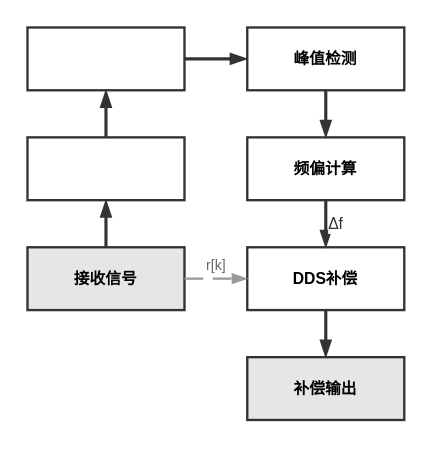
The diagram is 433 pixels wide and 449 high, and some of its shapes have lost their labels. Each missing label, with the centre of its shape:
FFT: the point at 105,58
四次方运算: the point at 105,168
